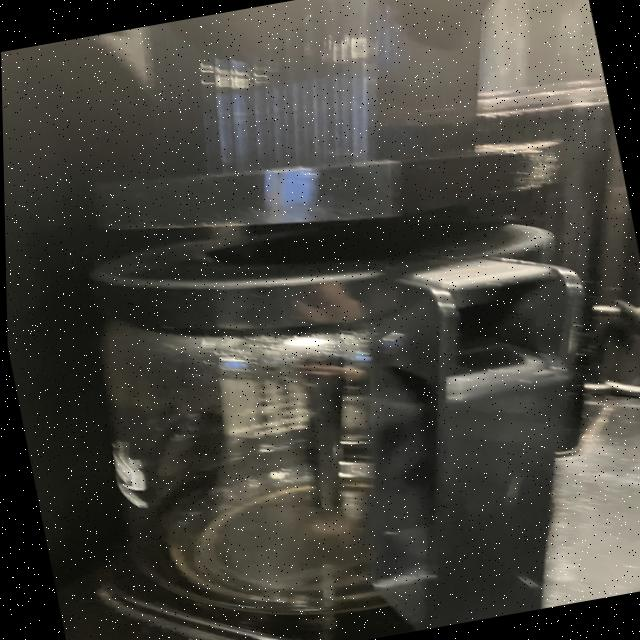nocoffee: (59, 186, 628, 640)
